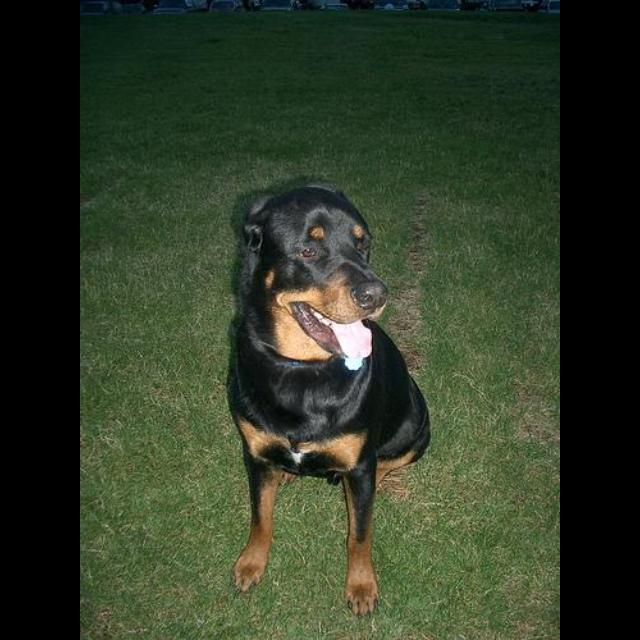rottweiler: (226, 184, 432, 617)
